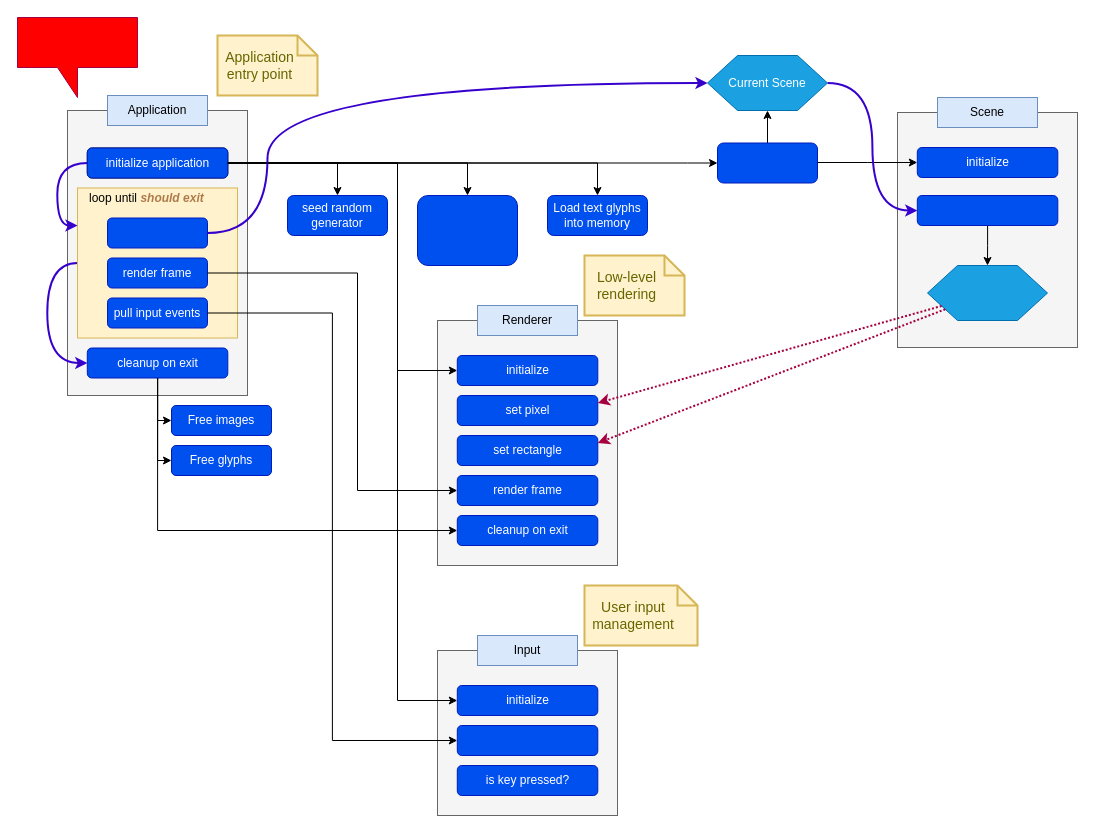
The diagram is 1095 pixels wide and 833 high, and some of its shapes have lost their labels. Here are the shapes that lost their labels. From the top down, the centre of each, then its label:
(77,57): Start here
(767,162): Load starting scene
(467,230): Load images (cars, obstacles) into memory
(987,210): update
(157,232): process logic
(987,292): Objects in the scene
(527,740): async keypress
